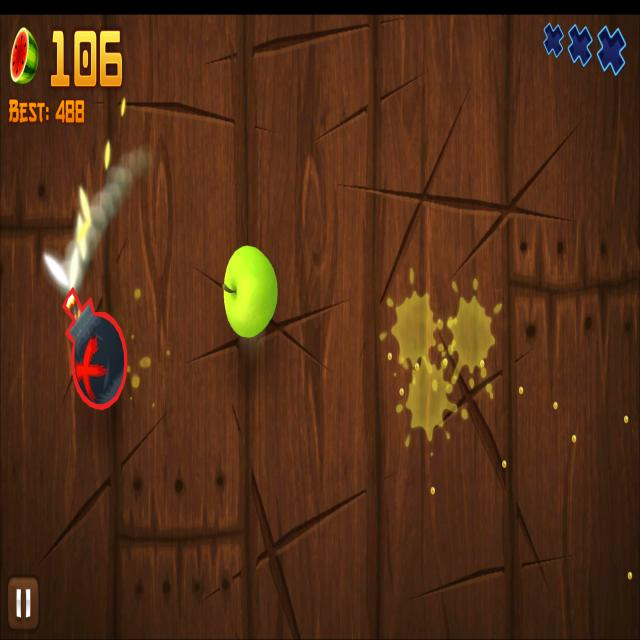bomb: (63, 287, 128, 409)
fruit: (223, 246, 279, 337)
